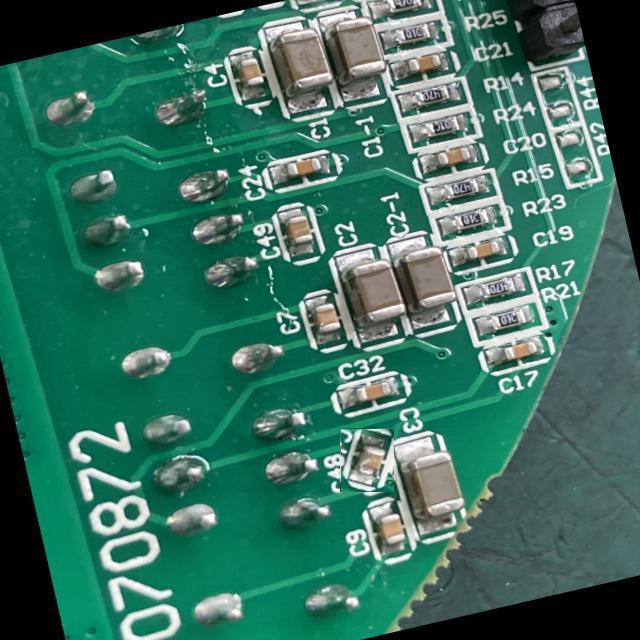damged: (340, 428, 394, 492)
